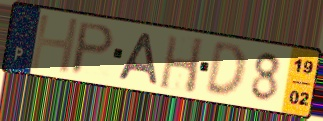8: (248, 50, 283, 104)
A: (115, 31, 160, 87)
D: (202, 42, 248, 101)
H: (27, 13, 82, 75), (157, 33, 207, 96)
P: (68, 20, 118, 77)
